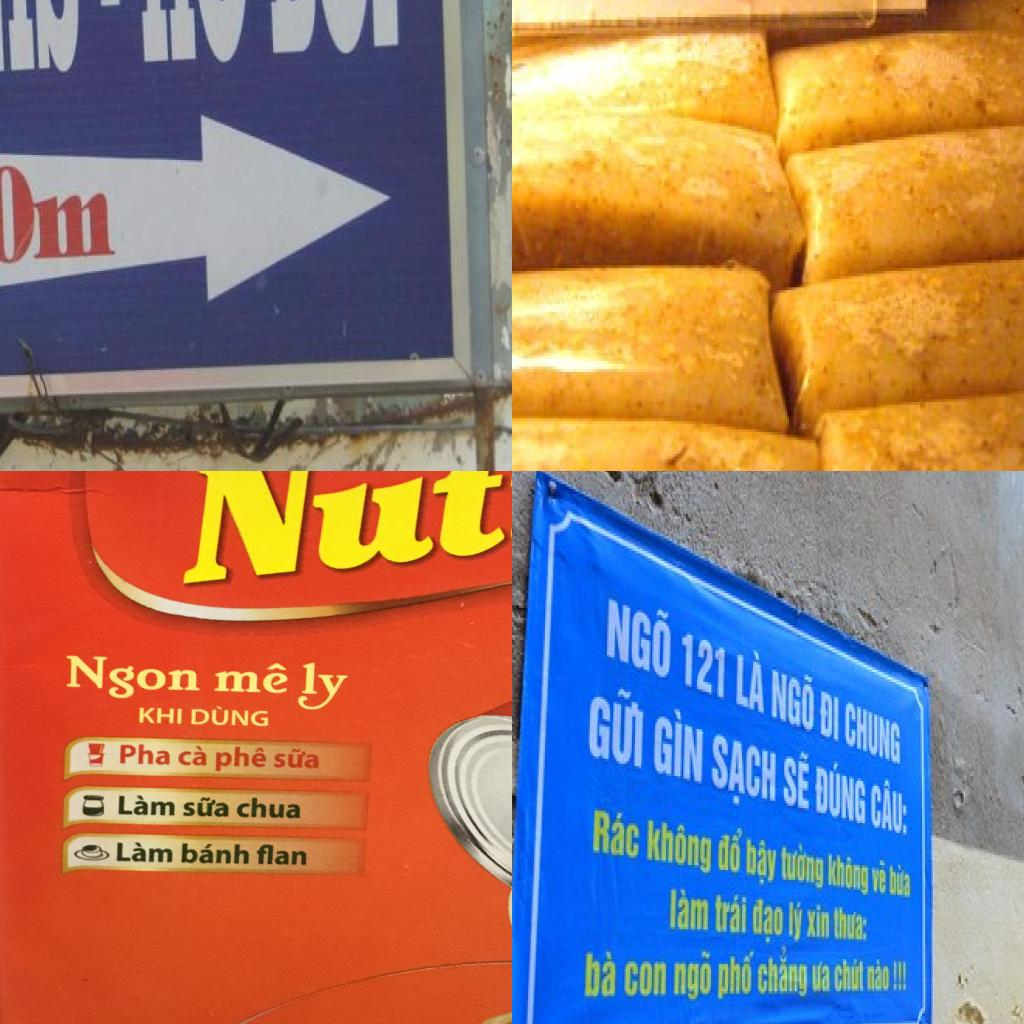text: (211, 471, 445, 692), (136, 516, 189, 664), (605, 588, 674, 685), (709, 732, 778, 818), (156, 867, 258, 924), (587, 680, 644, 771), (650, 702, 705, 786), (646, 816, 714, 878), (844, 699, 904, 769), (813, 756, 868, 830), (770, 660, 816, 734), (680, 630, 726, 702), (756, 942, 810, 1001), (0, 723, 40, 791), (592, 808, 641, 863), (870, 773, 910, 838), (779, 843, 826, 895), (672, 949, 714, 1004), (736, 642, 767, 716), (669, 887, 713, 937), (827, 853, 871, 902), (719, 949, 756, 1004), (781, 744, 810, 813), (744, 835, 780, 890), (624, 959, 668, 999), (752, 897, 786, 947), (584, 952, 619, 998), (716, 823, 745, 877), (714, 892, 748, 937), (832, 907, 869, 944), (818, 687, 841, 744), (834, 956, 866, 994), (806, 902, 832, 944), (889, 862, 913, 900), (363, 893, 392, 924), (787, 900, 807, 944), (868, 959, 891, 994), (812, 959, 832, 996), (872, 855, 888, 900), (494, 834, 512, 869)
